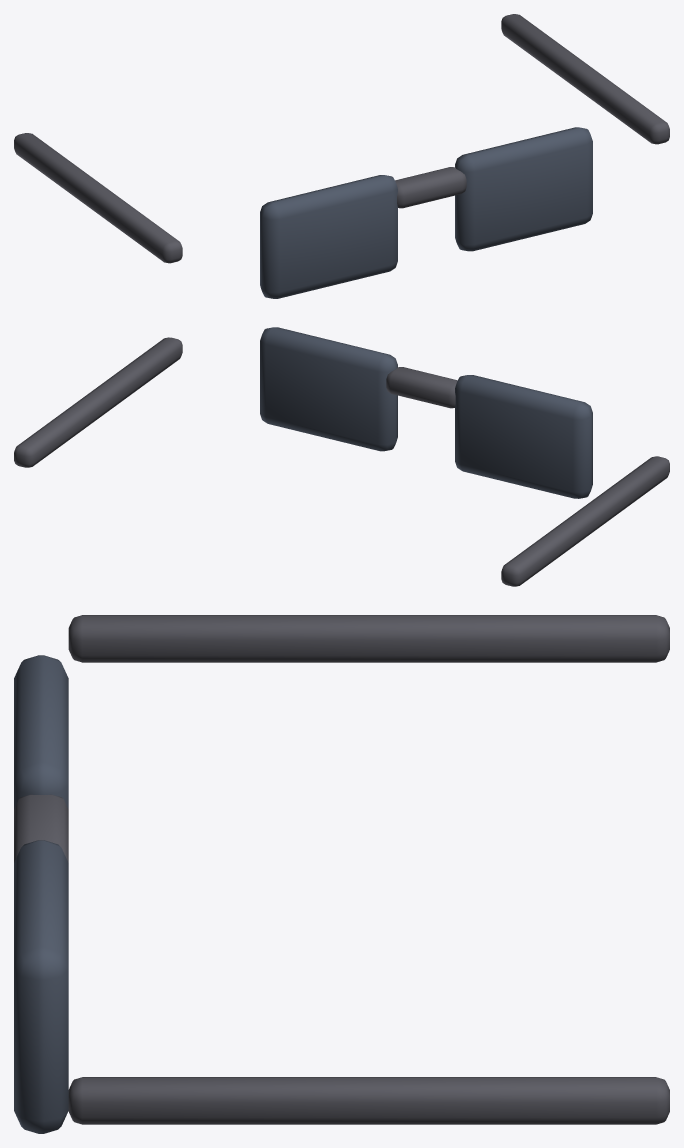
File: CharGlassesSunnies.fbx
The picture shows the model from 3 angles, top to bottom: view 1: azimuth 30°, elevation 25°; view 2: azimuth 150°, elevation 25°; view 3: azimuth 270°, elevation 25°; orthographic projection. The views are drawn at different scales.
Parts seen in each view (by area): view 1: CharGlassesSunnies; view 2: CharGlassesSunnies; view 3: CharGlassesSunnies.
Boxes of the visible parts, left/top/right/bottom form: CharGlassesSunnies: left=14, top=14, right=669, bottom=298; CharGlassesSunnies: left=14, top=327, right=669, bottom=586; CharGlassesSunnies: left=14, top=615, right=669, bottom=1133.
Size of the model in its own units: 0.416 by 0.075 by 0.24.
